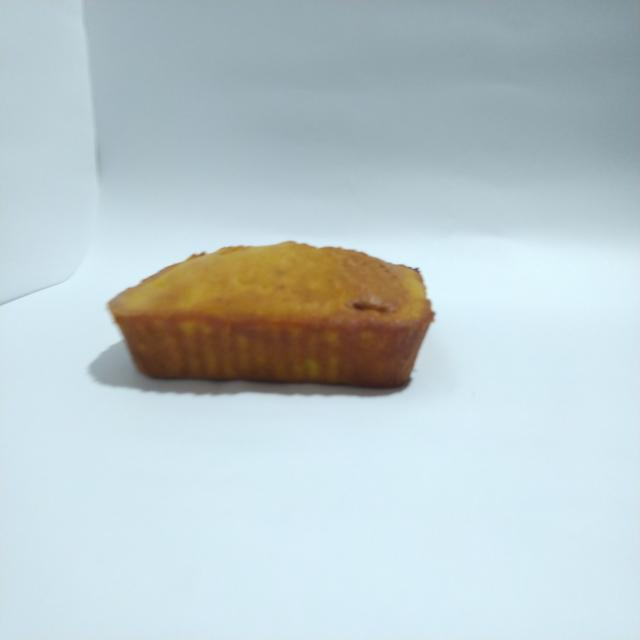Food: (100, 222, 447, 403)
